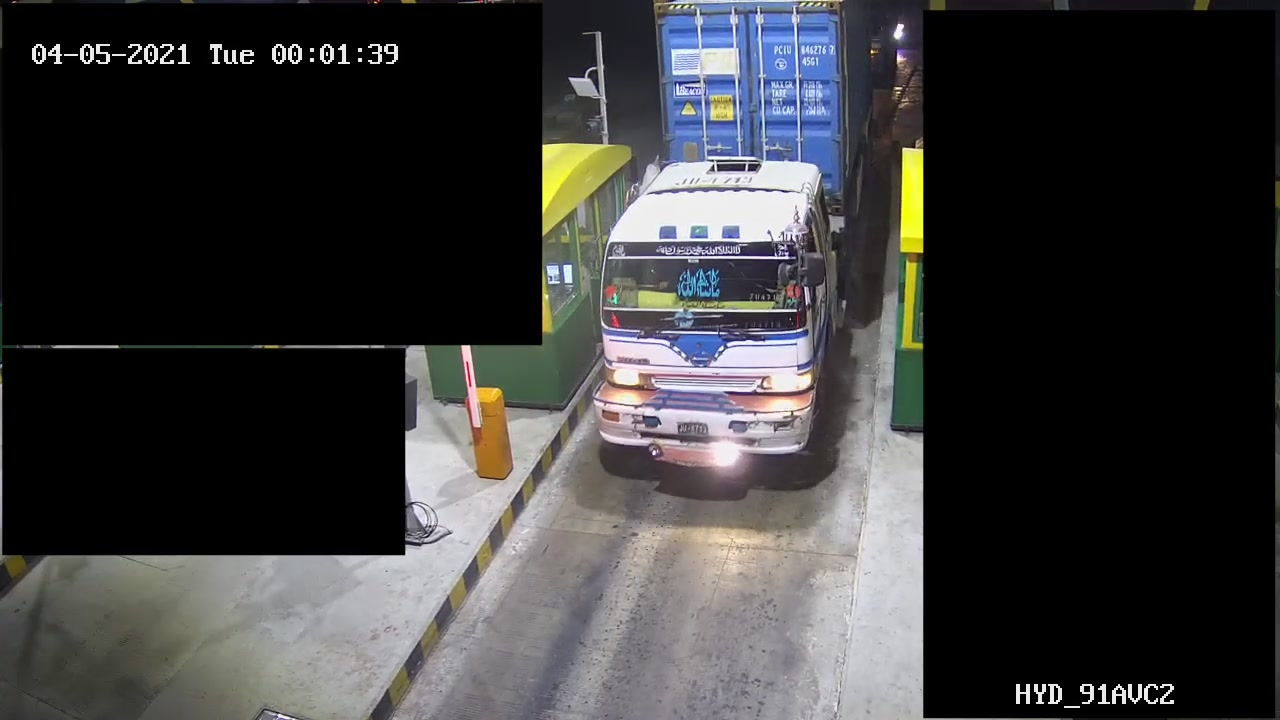F6: (590, 1, 875, 488)
